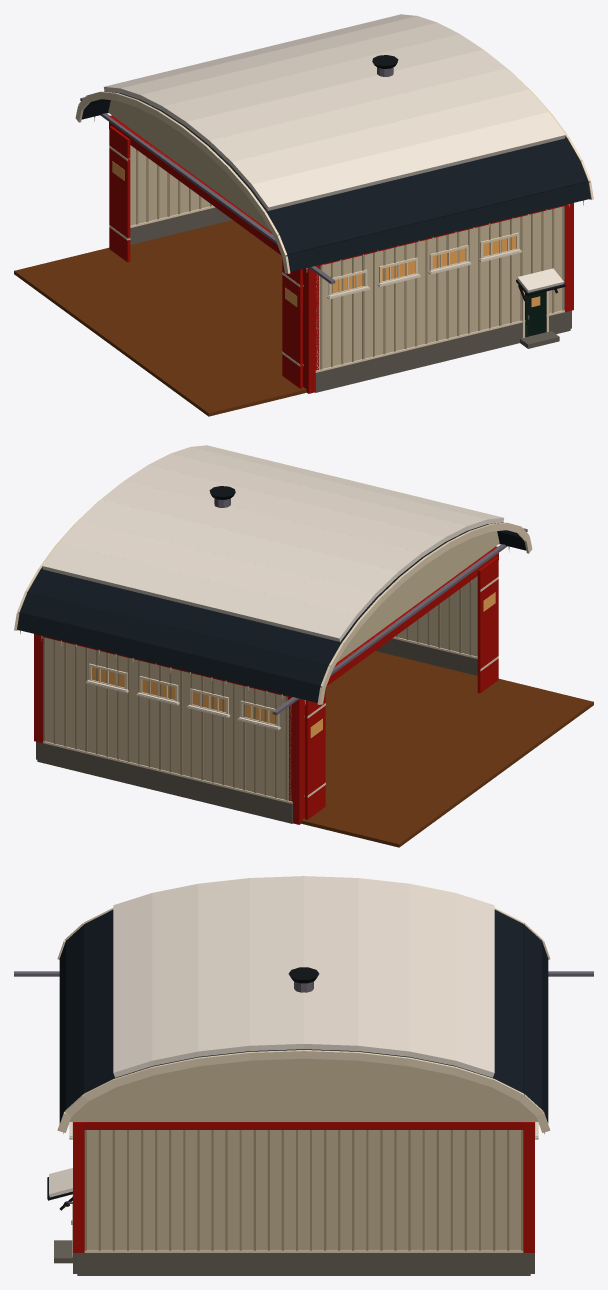
File: rs_hangar.glb
3 renders of one model, top to bottom at view 1: azimuth 30°, elevation 25°; view 2: azimuth 150°, elevation 25°; view 3: azimuth 270°, elevation 25°, orthographic. The views are drawn at different scales.
Parts seen in each view (by area): view 1: hangar; view 2: hangar; view 3: hangar.
Part boxes in pixels (x1,y1,x2,y2): hangar: [14, 14, 593, 416]; hangar: [14, 445, 593, 847]; hangar: [14, 876, 593, 1275].
Bounding box in the file's own units: 17.85 × 9.89 × 20.6.
